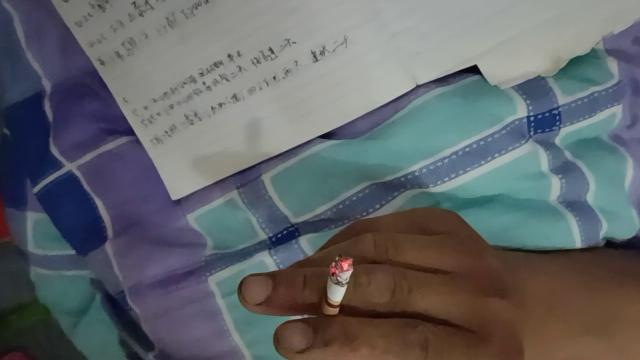Cigarette: (314, 256, 356, 338)
